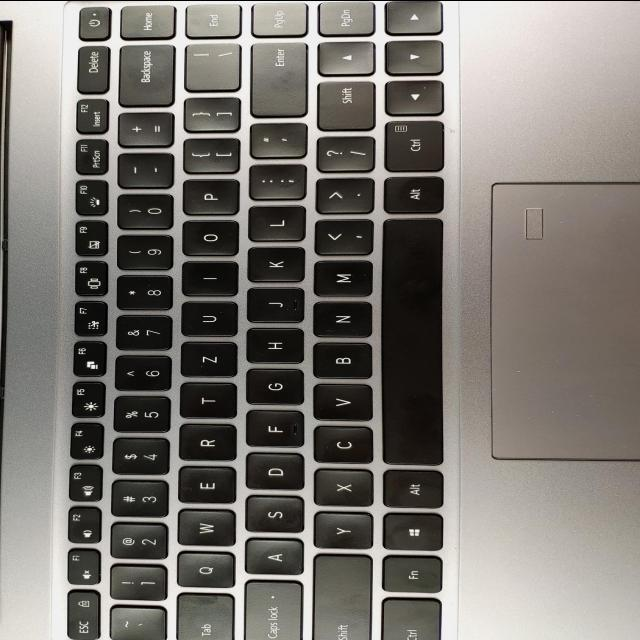1: (106, 566, 164, 602)
2: (106, 523, 165, 561)
3: (107, 481, 165, 519)
4: (108, 438, 167, 476)
5: (109, 396, 167, 434)
6: (111, 354, 169, 392)
7: (111, 316, 169, 352)
8: (112, 276, 170, 312)
9: (114, 235, 170, 271)
a: (241, 539, 301, 575)
alt-left: (381, 471, 442, 510)
altgr-right: (381, 177, 441, 215)
b: (309, 343, 370, 381)
c: (310, 427, 371, 465)
comma: (310, 220, 371, 256)
d: (242, 453, 302, 491)
del: (114, 45, 172, 108)
e: (175, 467, 234, 505)
enter: (246, 43, 305, 119)
f: (241, 410, 301, 448)
g: (242, 369, 301, 406)
h: (242, 329, 300, 365)
i: (178, 262, 234, 298)
j: (242, 288, 301, 324)
k: (243, 247, 303, 283)
keyboard: (49, 0, 458, 640)
l: (244, 207, 302, 243)
m: (309, 261, 370, 299)
minus: (112, 154, 170, 190)
n: (309, 302, 370, 338)
o: (178, 221, 236, 257)
p: (178, 179, 236, 217)
plus: (113, 113, 171, 149)
point: (314, 177, 372, 214)
q: (173, 553, 233, 590)
r: (175, 424, 233, 462)
s: (242, 496, 302, 534)
shift-left: (307, 555, 369, 640)
shift-lock: (239, 582, 300, 640)
shift-right: (313, 81, 372, 131)
space: (377, 220, 441, 469)
ss: (113, 195, 171, 231)
strg-left: (377, 599, 439, 640)
strg-right: (381, 120, 442, 173)
t: (176, 384, 234, 420)
tab: (173, 594, 232, 640)
u: (176, 302, 235, 338)
v: (308, 384, 370, 422)
w: (173, 510, 233, 548)
x: (310, 470, 371, 508)
y: (310, 512, 370, 550)
z: (176, 343, 234, 379)
